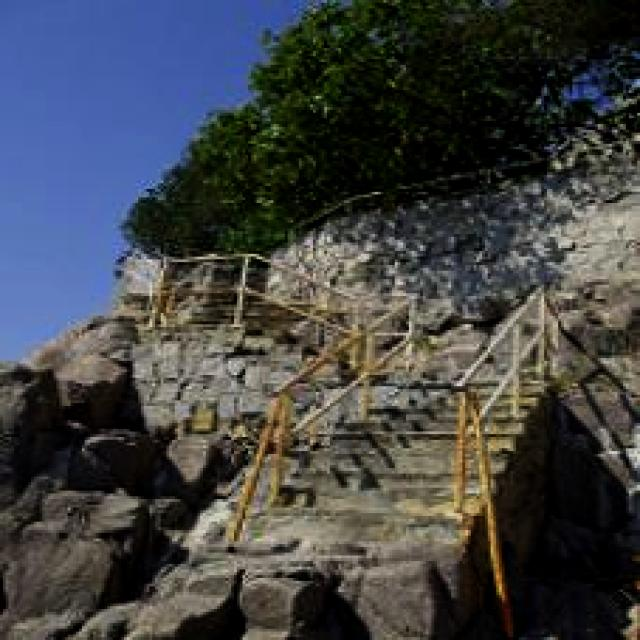upstair: (255, 331, 537, 539)
